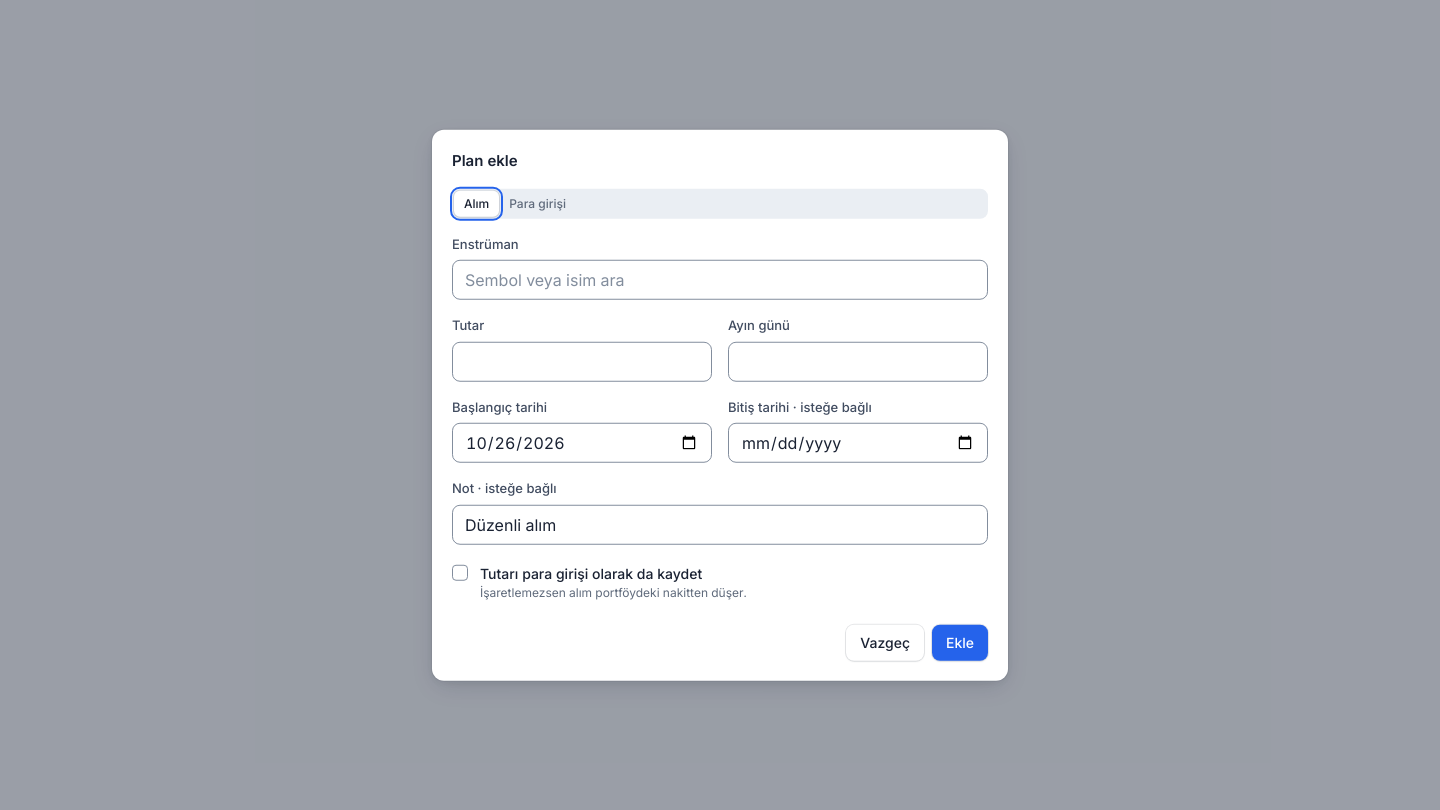
Test: shows the day error under the field for a missing day and posts nothing
The image size is (1440, 810).
Type "xyz" into the dropdown labelled "Enstrüman" at (720, 280), box [452,260,988,300]
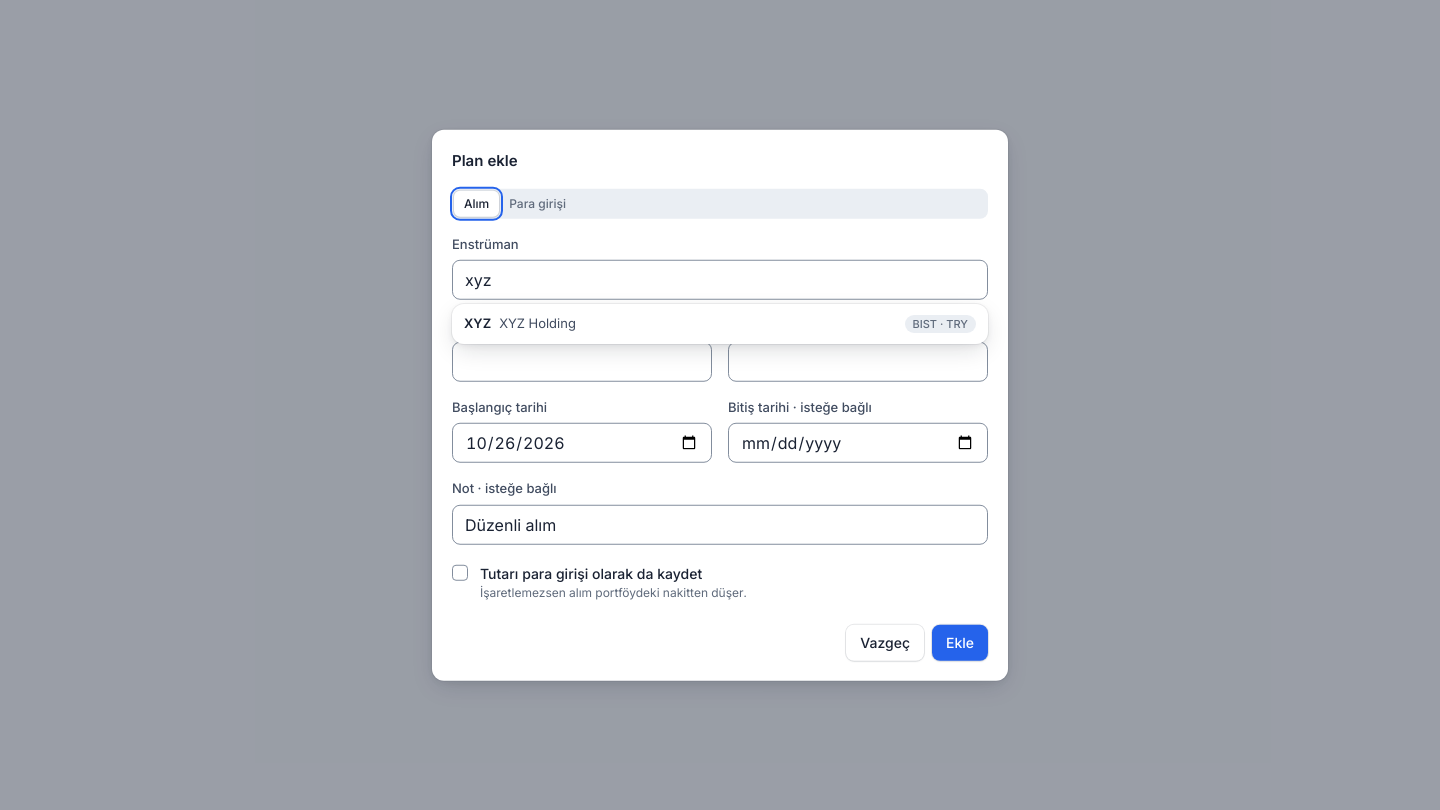
Click the option "XYZ XYZ Holding BIST · TRY" at (537, 323), box [464,315,976,333]
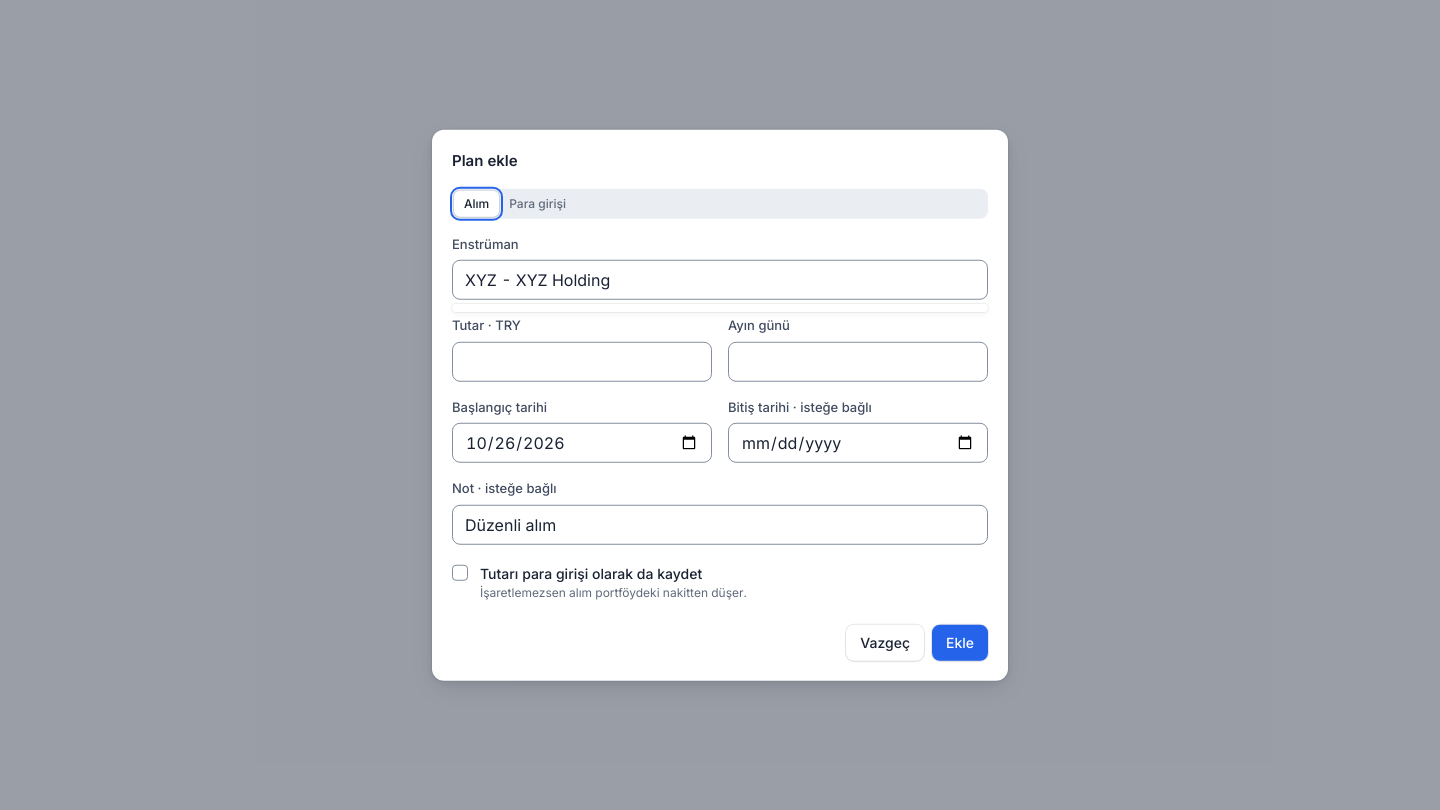
Type "1000" into the field labelled "Tutar · TRY" at (582, 361), box [452,341,712,381]
Type "5" into the number field labelled "Ayın günü" at (858, 361), box [728,341,988,381]
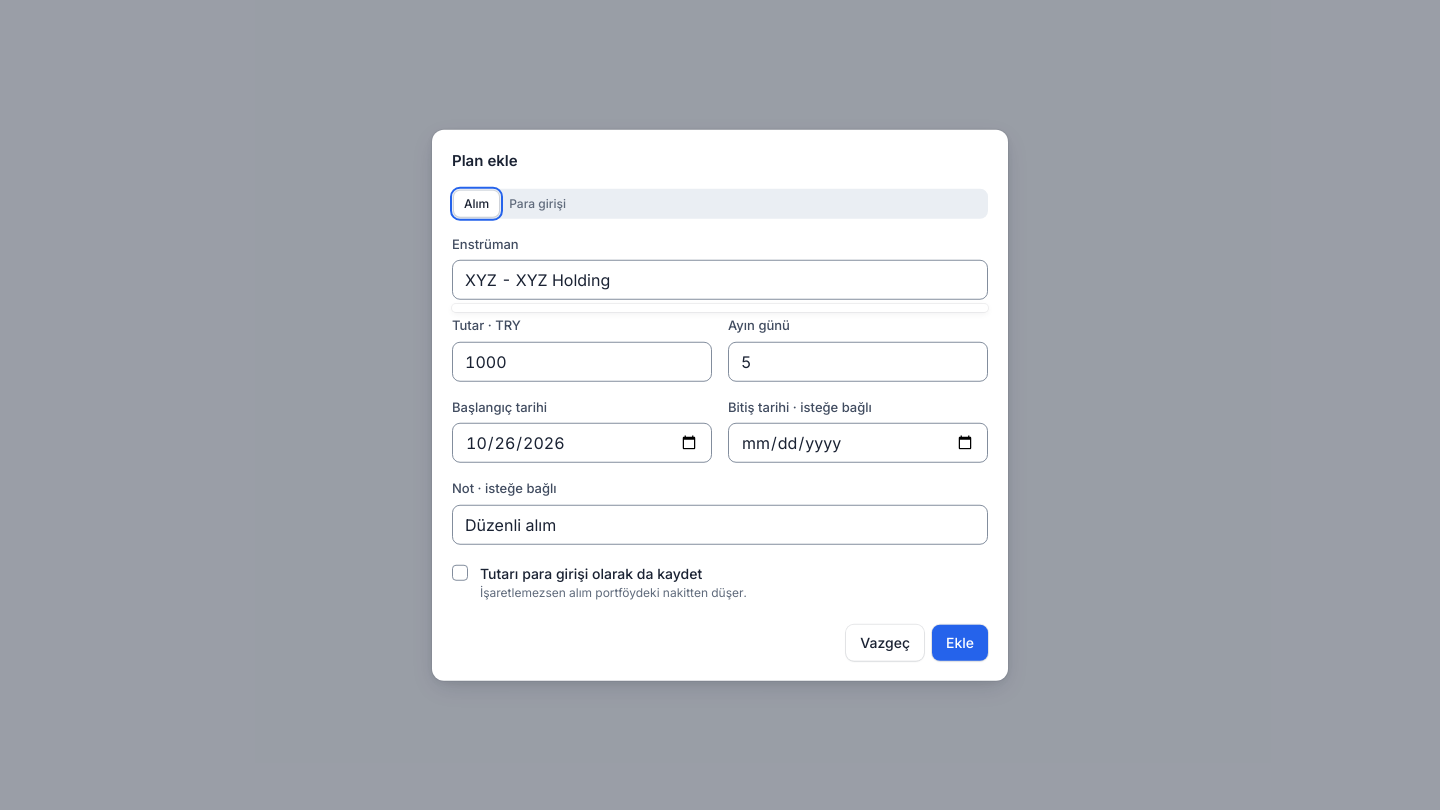
Type "2026-11-01" into the date field labelled "Başlangıç tarihi" at (582, 443), box [452,423,712,463]
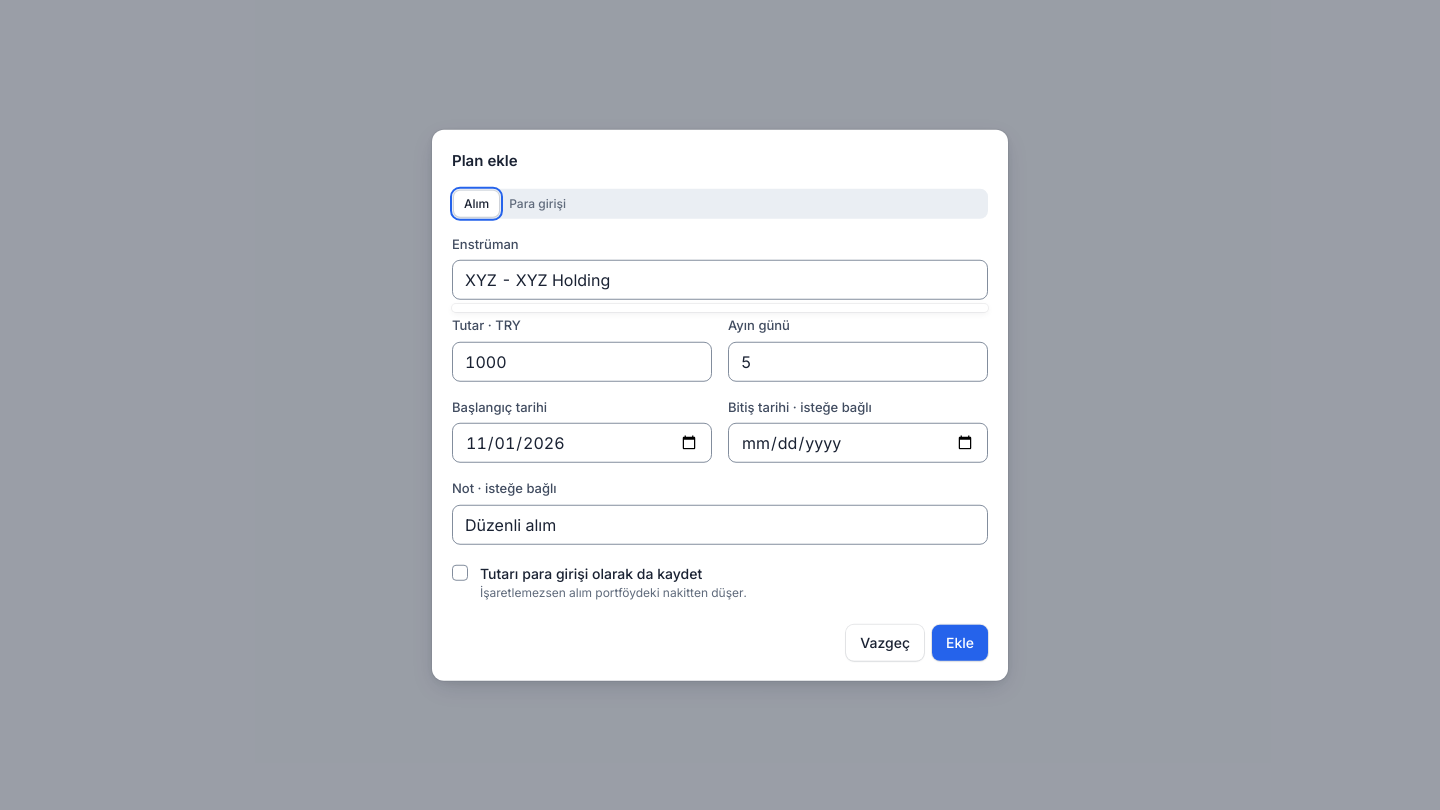
Clear the number field labelled "Ayın günü" at (858, 361), box [728,341,988,381]
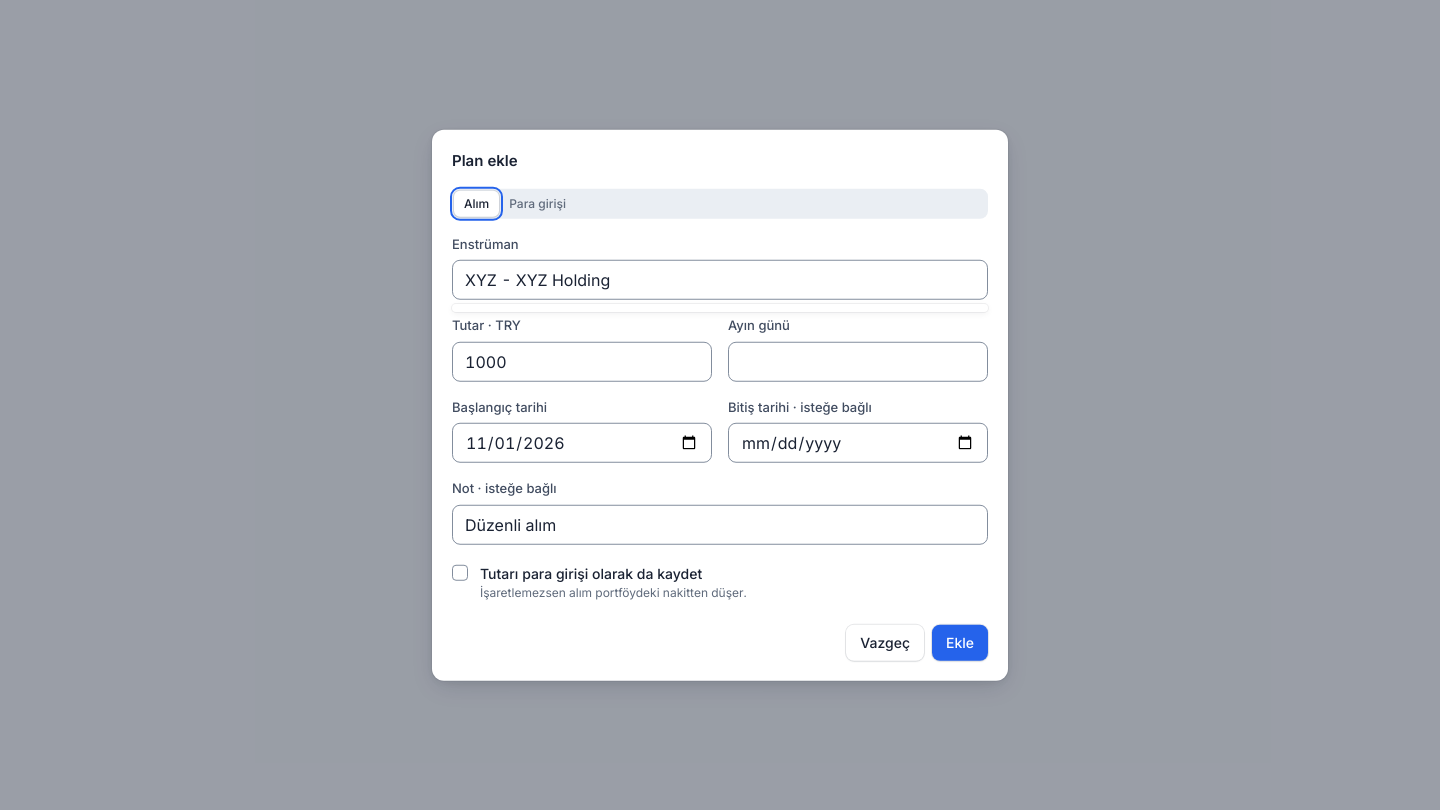
Click the button "Ekle" at (960, 642), box [932,624,988,660]
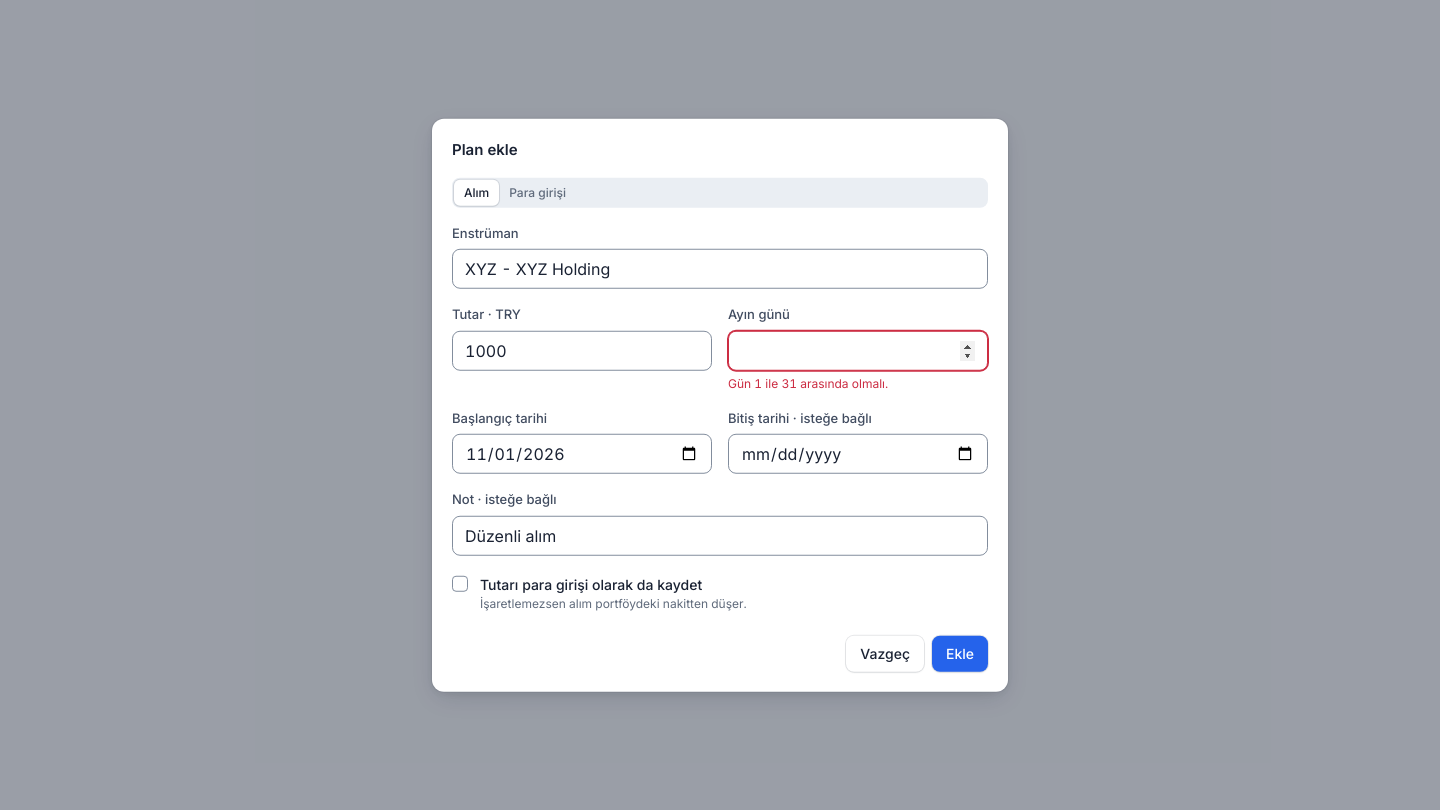
expect the text "Gün 1 ile 31 arasında olmalı." is shown: met, box [728,375,888,390]
